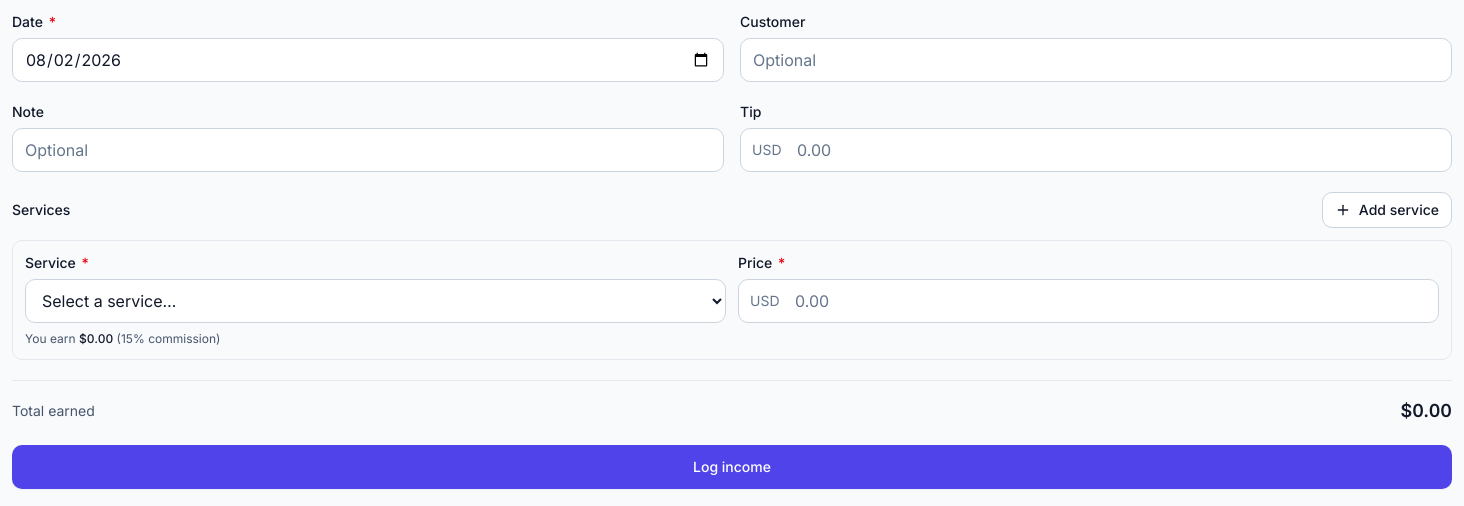
Test: EntryForm › prefills the price when a service is selected
The image size is (1464, 506).
Select "Haircut" in the dropdown labelled "Service *" at [376, 301], box top-left (25, 279), bottom-right (726, 323)
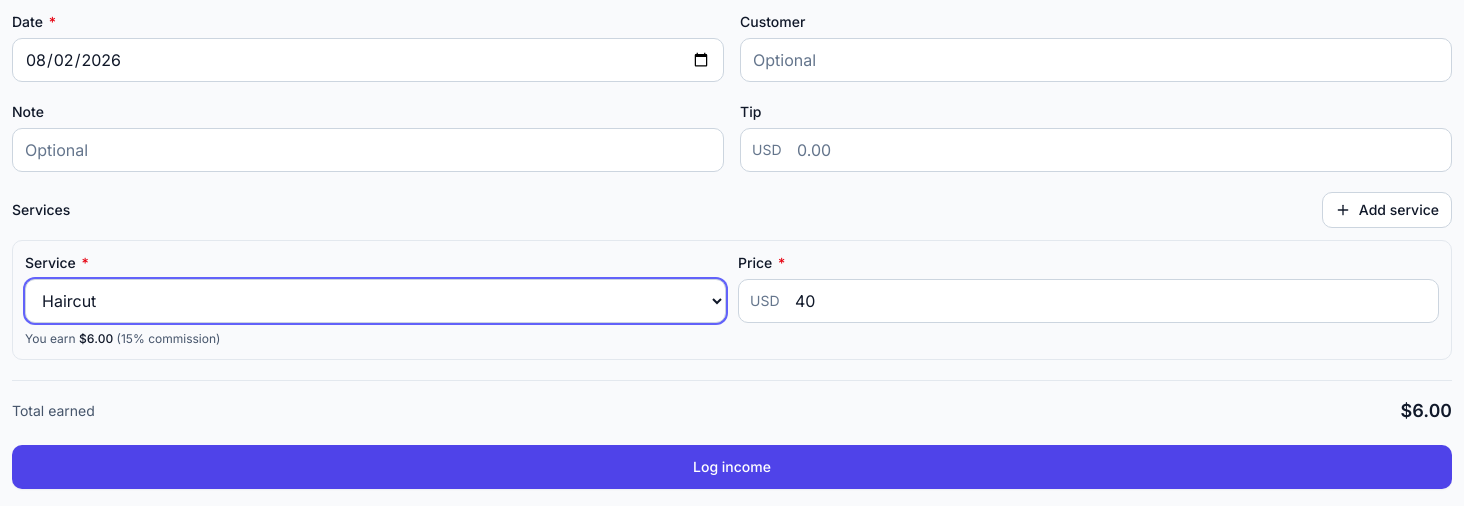
Check: the number field labelled "Price *" holds "40", box top-left (738, 279), bottom-right (1439, 323)
